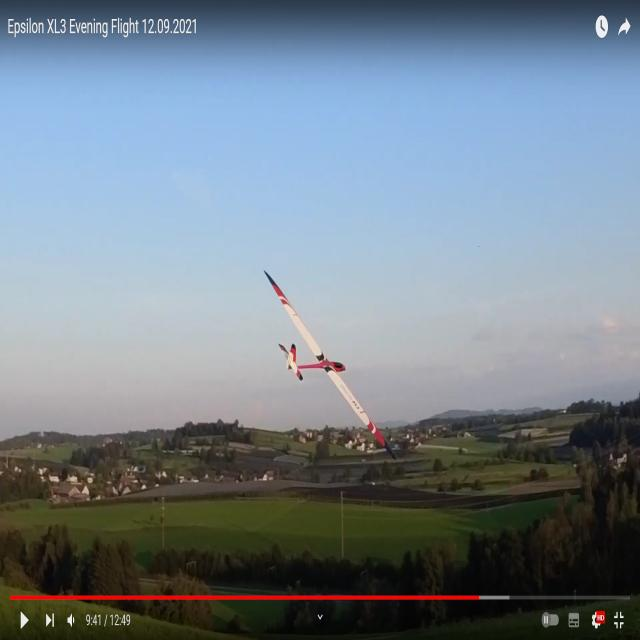iha: (293, 261, 354, 443)
